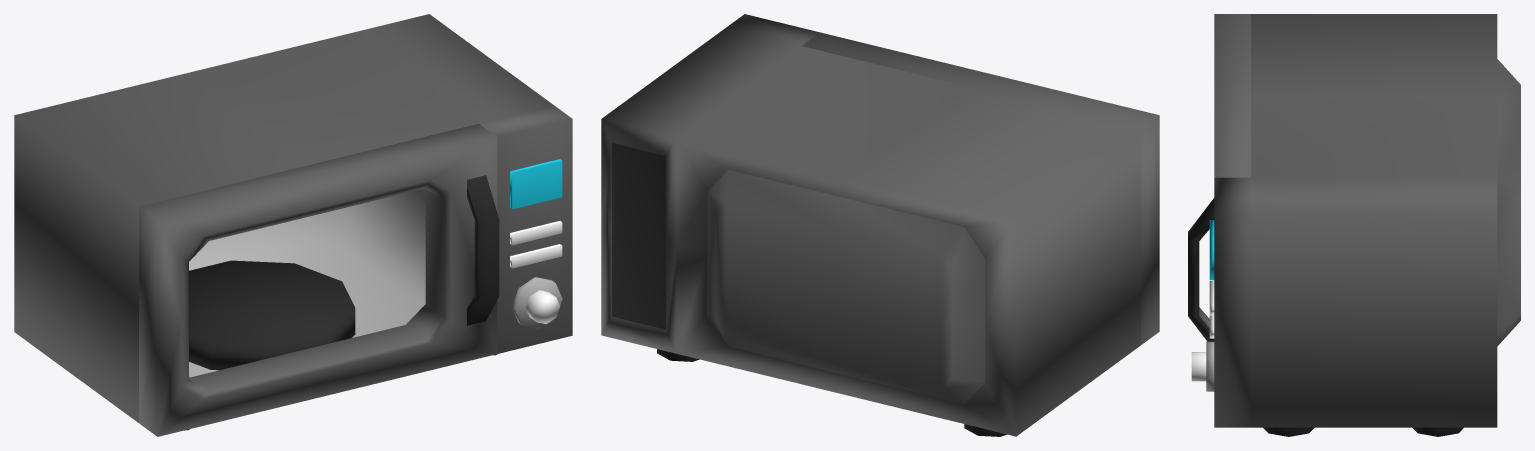
Rendered from microwave.glb.
The picture shows the model from 3 angles, left to right: view 1: azimuth 30°, elevation 25°; view 2: azimuth 150°, elevation 25°; view 3: azimuth 270°, elevation 25°; orthographic projection.
Visible parts, largest first — view 1: mesh_tech_microwave_body_01, mesh_tech_microwave_door_01; view 2: mesh_tech_microwave_body_01, mesh_tech_microwave_door_01; view 3: mesh_tech_microwave_body_01, mesh_tech_microwave_door_01.
Part boxes in pixels (<box>): mesh_tech_microwave_body_01: <box>14,14,572,430</box>; mesh_tech_microwave_door_01: <box>139,123,499,436</box>; mesh_tech_microwave_body_01: <box>601,14,1140,436</box>; mesh_tech_microwave_door_01: <box>802,32,1159,344</box>; mesh_tech_microwave_body_01: <box>1191,14,1520,436</box>; mesh_tech_microwave_door_01: <box>1188,14,1250,341</box>.
Bounding box in the file's own units: 0.6586 × 0.3641 × 0.4635.
Materials: 1 (1 with a texture image).
